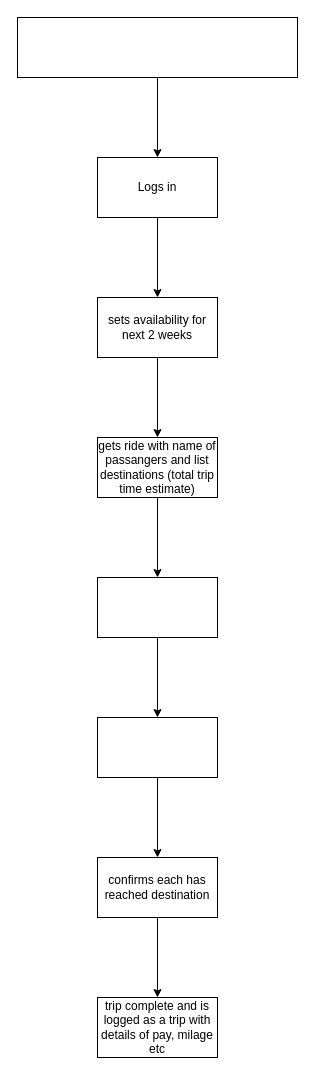
This 315x1075 diagram has some shape labels left out. Here are the shapes that lost their labels. From the top down, the centre of each, then its label:
the point at 157,47: Driver signs up (Name, address, phone number , van, license plate)
the point at 157,607: goes to airport to pick them up
the point at 157,747: drives to destination one by one
